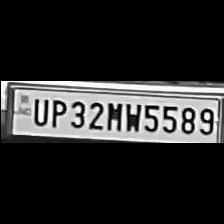2: (84, 98, 104, 130)
3: (65, 97, 84, 129)
5: (140, 101, 160, 133), (160, 102, 178, 134)
8: (178, 103, 196, 135)
9: (196, 104, 214, 136)
M: (104, 99, 122, 131)
P: (46, 96, 66, 128)
U: (28, 96, 48, 127)
W: (122, 100, 142, 134)
